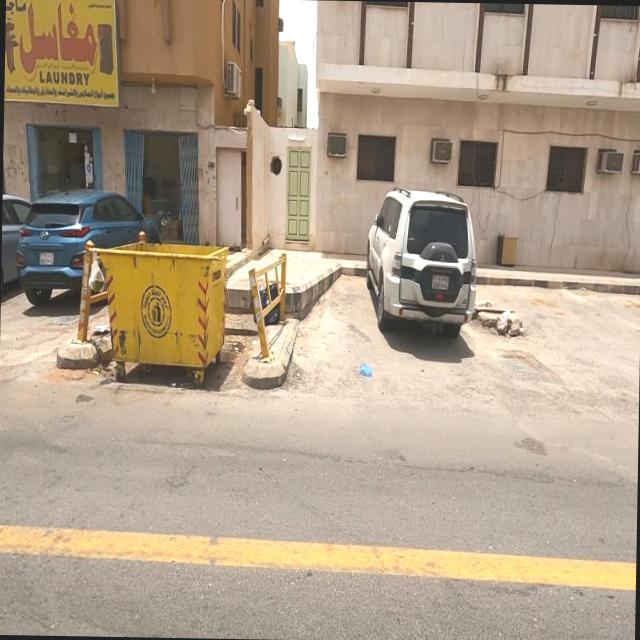debris: (54, 220, 124, 328), (339, 338, 392, 412)
